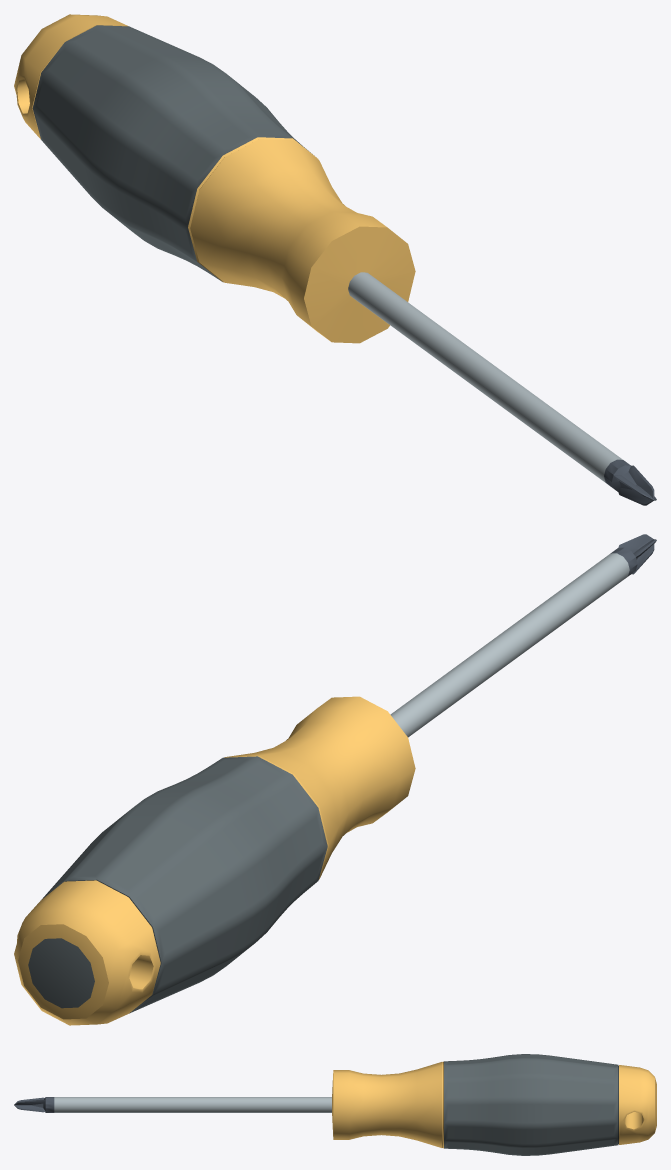
File: Screwdriver.fbx
3 renders of one model, top to bottom at view 1: azimuth 30°, elevation 25°; view 2: azimuth 150°, elevation 25°; view 3: azimuth 270°, elevation 25°, orthographic. The views are drawn at different scales.
Parts seen in each view (by area): view 1: Screwdriver; view 2: Screwdriver; view 3: Screwdriver.
Part boxes in pixels (box(x1,y1,x2,y2)): Screwdriver: box(14, 14, 656, 505); Screwdriver: box(14, 534, 656, 1025); Screwdriver: box(14, 1054, 656, 1155).
Size of the model in its own units: 3.16 by 3.16 by 19.87.
1 material, 1 textured.
